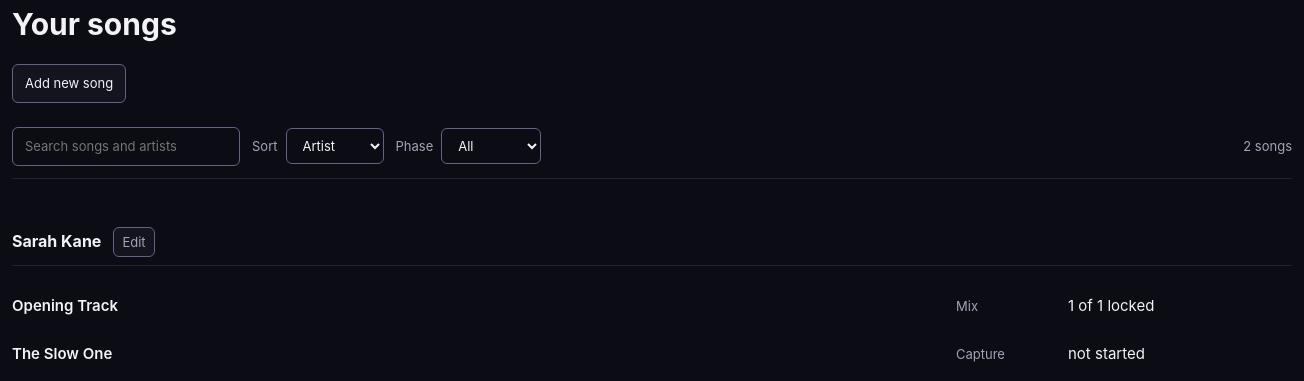
Test: SongsPage › leaves the name alone when the edit is cancelled
The image size is (1304, 381).
Expected: the heading "Sarah Kane" is shown, [12,229,101,254]
Click the button with aria-label "Edit Sarah Kane" at (134, 242), box [113,227,155,257]
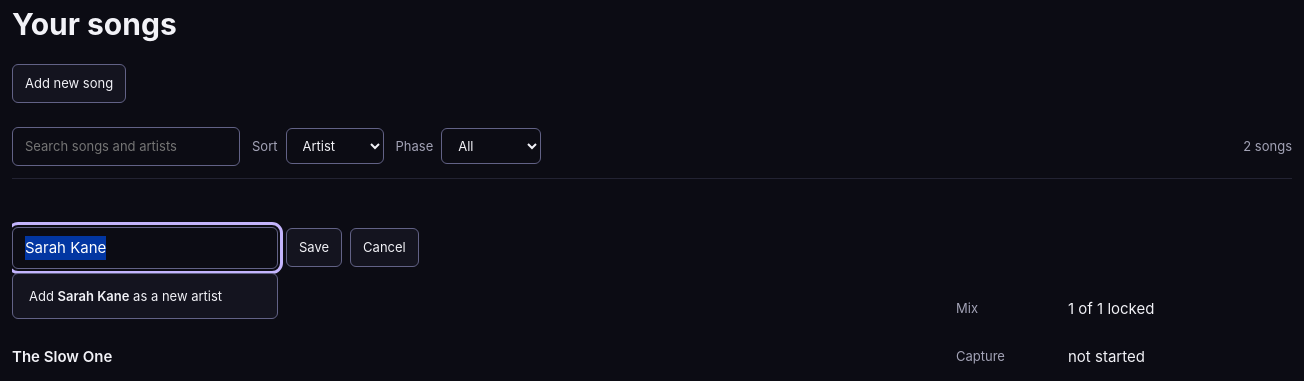
Replace the text in the dropdown named "Artist name" with "Something Else" at (145, 248), box [12,227,278,269]
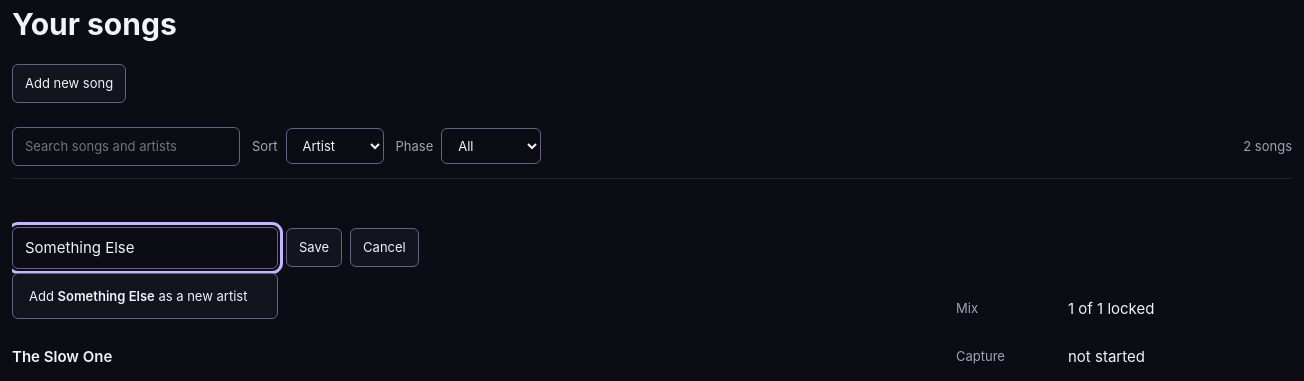
Click the button "Cancel" at (384, 248), box [350,228,419,267]
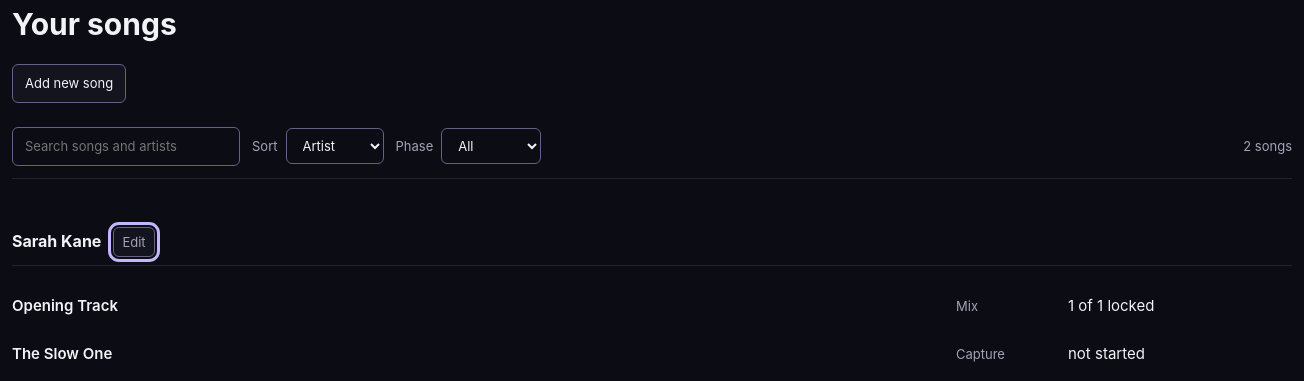
Expected: the heading "Sarah Kane" is shown, [12,229,101,254]
